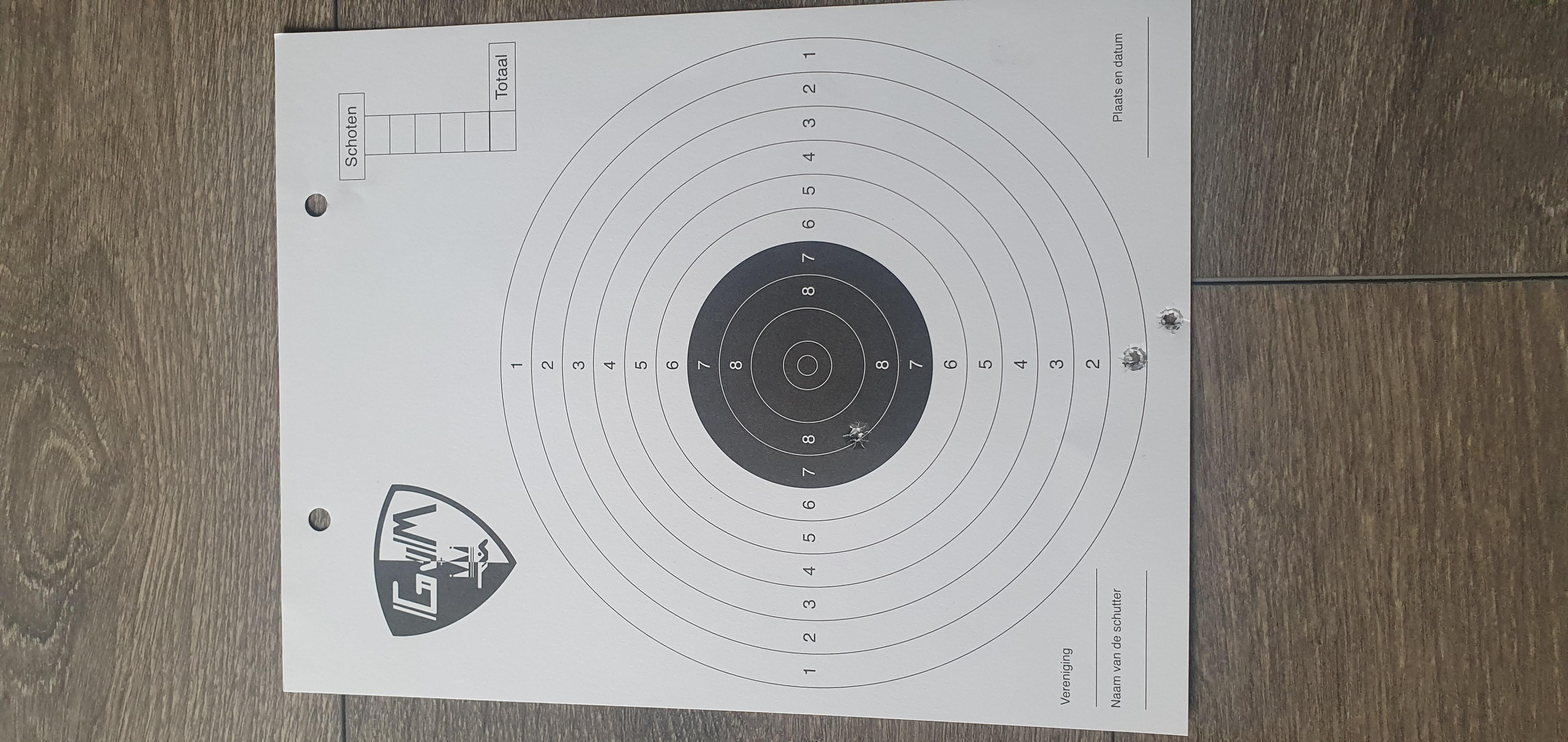hole: (858, 548, 931, 562), (614, 398, 679, 413), (780, 529, 841, 544)
